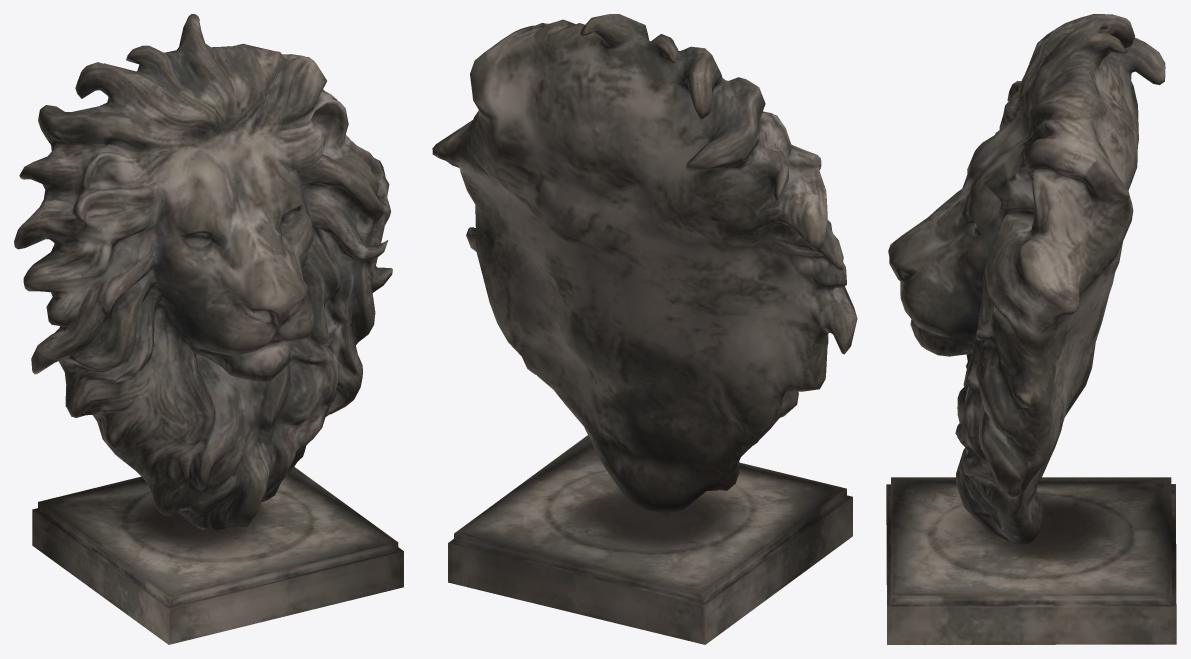
The model's file is lion_head.glb.
3 views of the same model, side by side, from view 1: azimuth 30°, elevation 25°; view 2: azimuth 150°, elevation 25°; view 3: azimuth 270°, elevation 25° (orthographic). The views are drawn at different scales.
Visible parts, largest first — view 1: lion_head; view 2: lion_head; view 3: lion_head.
Part boxes in pixels (x1=…): lion_head: x1=14, y1=14, x2=403, y2=644; lion_head: x1=432, y1=14, x2=857, y2=644; lion_head: x1=886, y1=14, x2=1176, y2=644.
Bounding box in the file's own units: 0.3203 × 0.4358 × 0.2066.
Materials: 1 (1 with a texture image).
